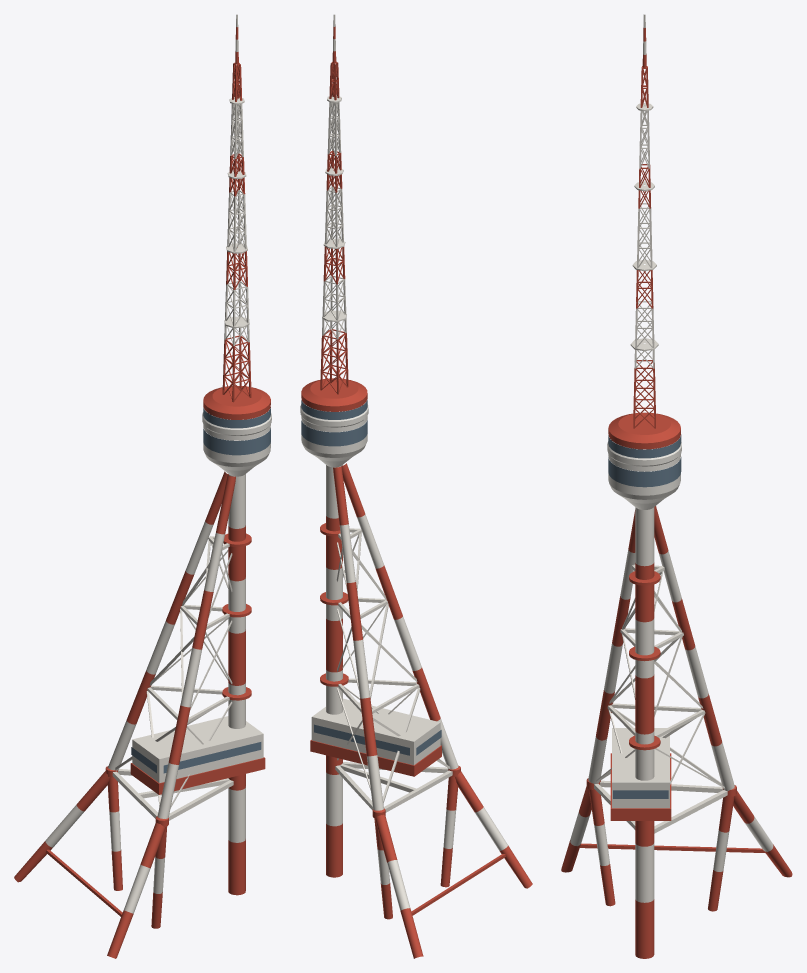
Rendered from tbilisi-tv-tower.detail.glb.
The picture shows the model from 3 angles, left to right: view 1: azimuth 30°, elevation 25°; view 2: azimuth 150°, elevation 25°; view 3: azimuth 270°, elevation 25°; orthographic projection. The views are drawn at different scales.
Visible parts, largest first — view 1: Tbilisi TV Broadcasting Tower; view 2: Tbilisi TV Broadcasting Tower; view 3: Tbilisi TV Broadcasting Tower.
Boxes of the visible parts, <box> form: Tbilisi TV Broadcasting Tower: <box>14,14,271,958</box>; Tbilisi TV Broadcasting Tower: <box>300,14,532,958</box>; Tbilisi TV Broadcasting Tower: <box>561,14,792,958</box>.
Size of the model in its own units: 64.09 by 274 by 61.14.
